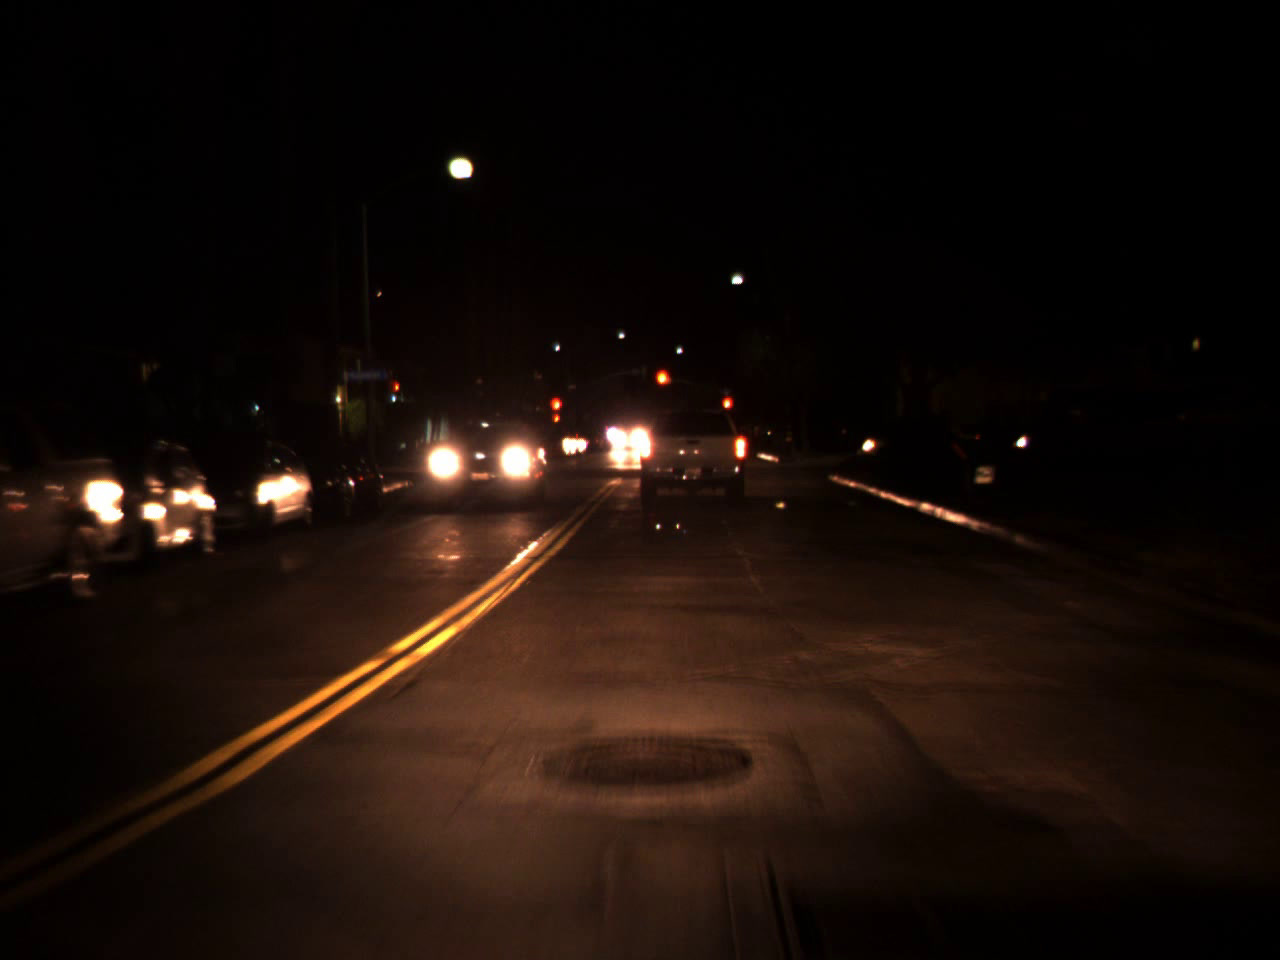stop: (653, 367, 672, 402), (549, 395, 564, 427), (720, 395, 733, 422)
